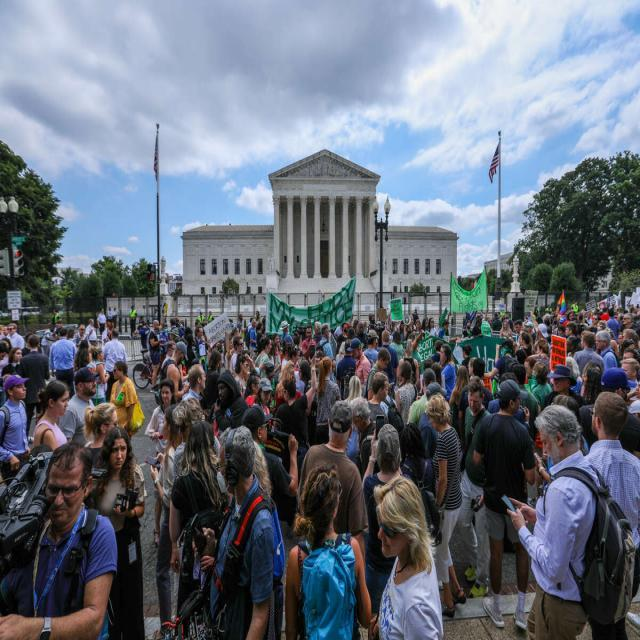Backpacks: (578, 480, 639, 631), (302, 540, 358, 640)
